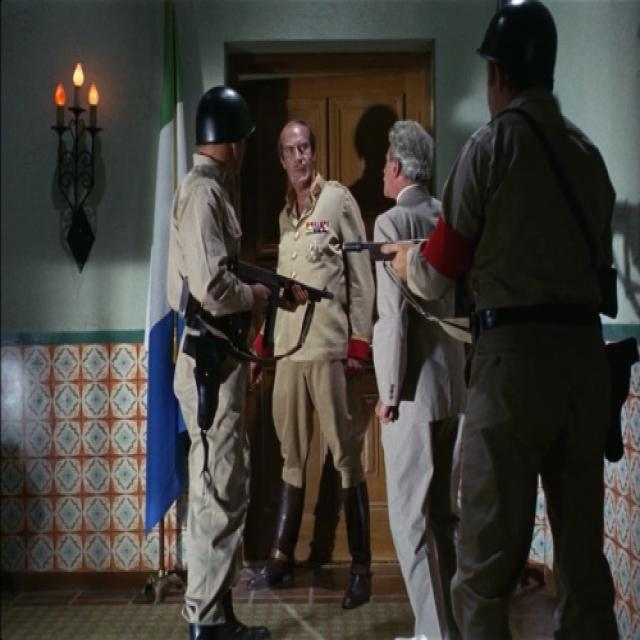rifle: (225, 258, 337, 309)
